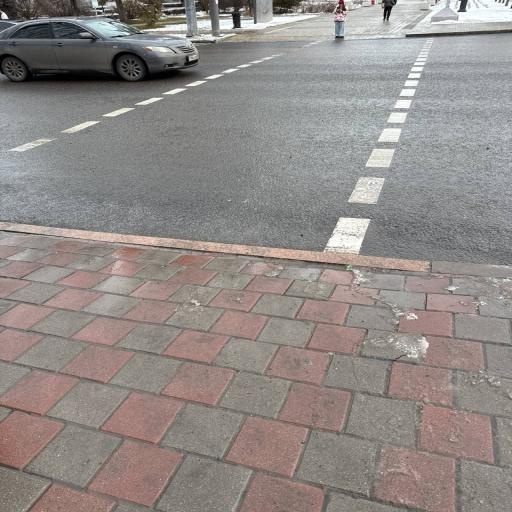book: (0, 17, 199, 82)
chair: (0, 35, 442, 248)
glass_wall: (0, 228, 511, 511), (0, 31, 511, 264)
